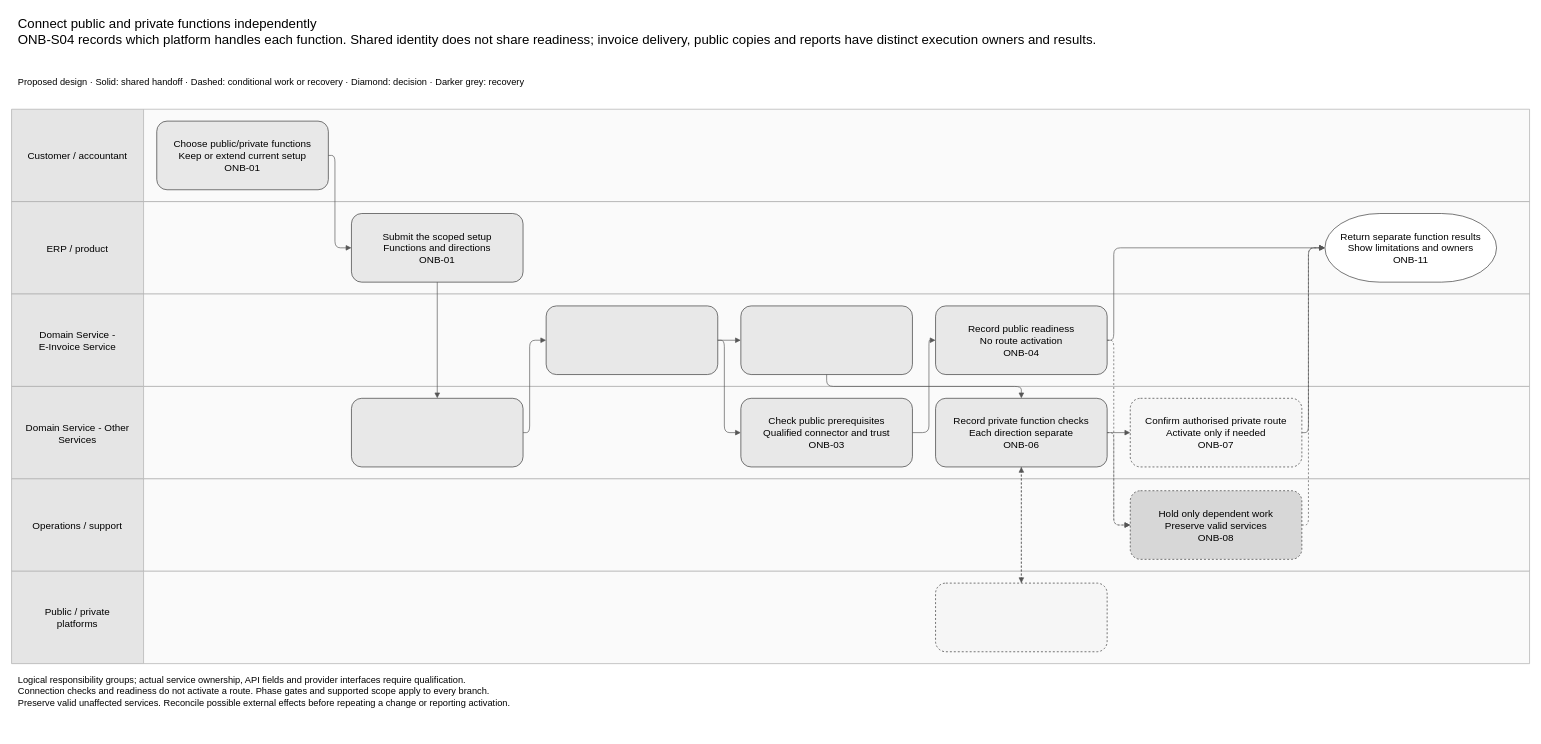
This 1541x744 diagram has some shape labels left out. Each missing label, with the centre of its shape:
Check business and permission Authority for each action ONB-02: [437,432]
Coordinate private setup Existing account and gaps ONB-05/06: [826,340]
Map functions and their owners Observe current configuration ONB-10: [631,340]
Observe private service state Qualified provider contract ONB-06: [1021,617]
